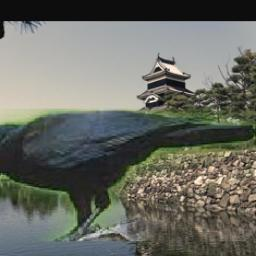Crow: (0, 109, 256, 241)
